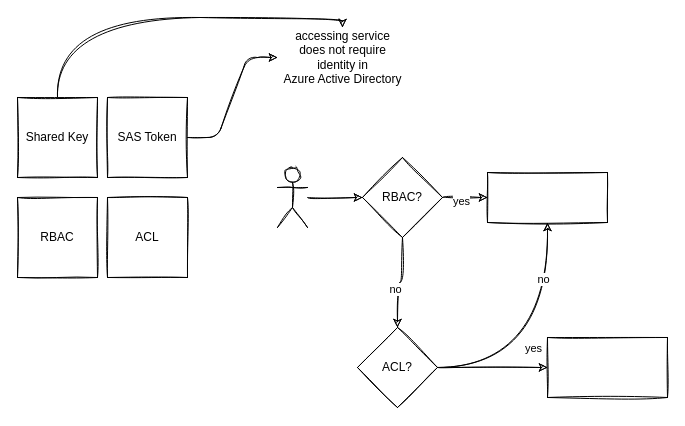
This 685x426 diagram has some shape labels left out. The centre of each missing label's shape, as x and y in pixels:
Actor: (x=292, y=197)
DENY ACCESS: (x=607, y=367)
GRANT ACCESS: (x=547, y=197)
